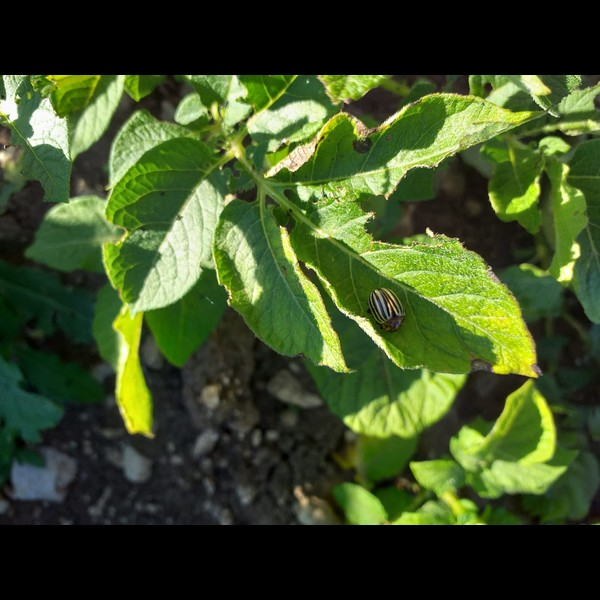hrosc: (368, 284, 408, 336)
